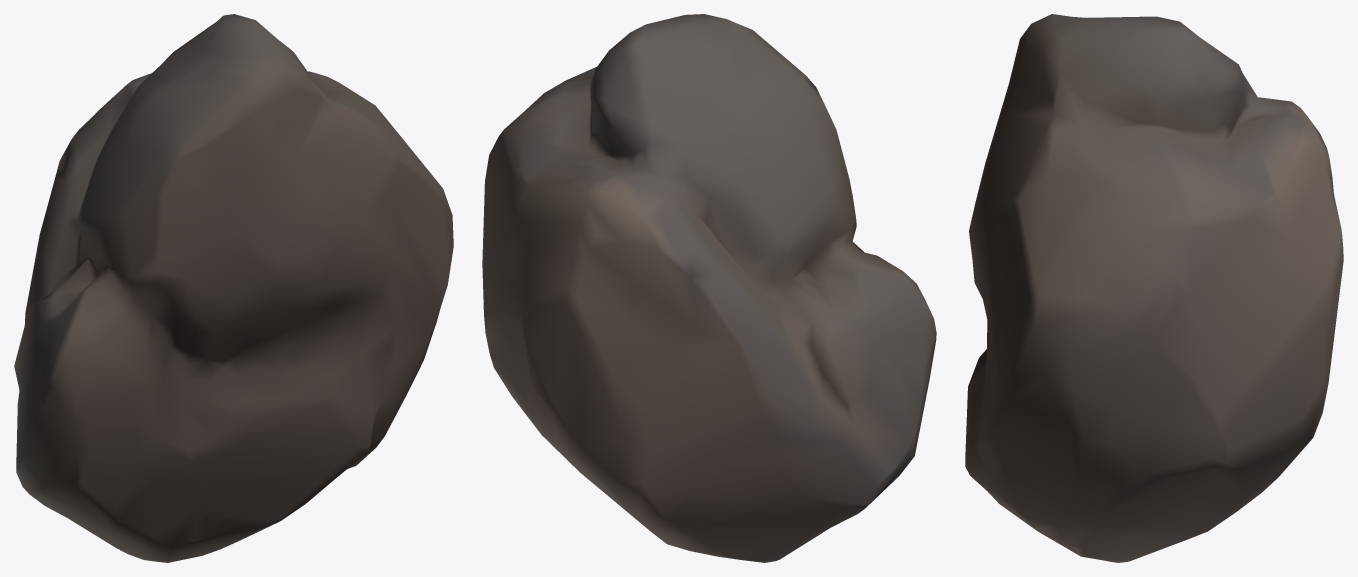
File: RockLarge.001.glb
3 renders of one model, left to right at view 1: azimuth 30°, elevation 25°; view 2: azimuth 150°, elevation 25°; view 3: azimuth 270°, elevation 25°, orthographic. The views are drawn at different scales.
Parts seen in each view (by area): view 1: RockLarge.001; view 2: RockLarge.001; view 3: RockLarge.001.
Part boxes in pixels (x1,y1,x2,y2): RockLarge.001: (14,14,453,562); RockLarge.001: (482,14,936,562); RockLarge.001: (965,14,1343,562).
Size of the model in its own units: 1027 by 1214 by 739.
